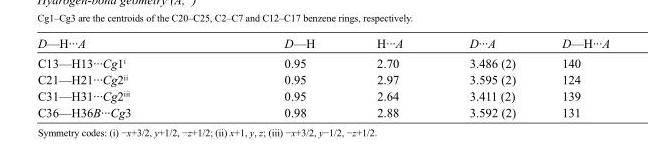table: (36, 36, 609, 118)
table column: (36, 36, 207, 118), (207, 36, 345, 118), (435, 36, 538, 118), (345, 36, 435, 118), (538, 36, 609, 118)
table row: (36, 53, 609, 71), (36, 36, 609, 53), (36, 87, 609, 104), (36, 71, 609, 87), (36, 104, 609, 118)
